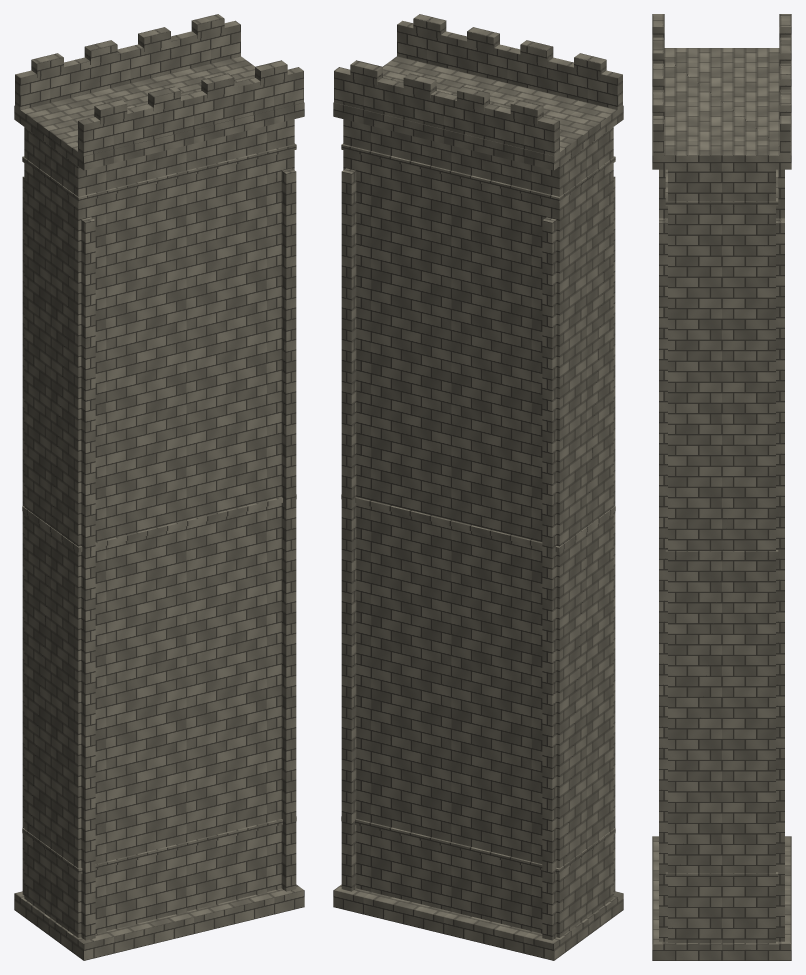
The model's file is SG_Wall_Bay_32x120_LOD1.fbx.
The picture shows the model from 3 angles, left to right: view 1: azimuth 30°, elevation 25°; view 2: azimuth 150°, elevation 25°; view 3: azimuth 270°, elevation 25°; orthographic projection.
Parts seen in each view (by area): view 1: SG_Wall_Bay_32x120_Detail1; view 2: SG_Wall_Bay_32x120_Detail1; view 3: SG_Wall_Bay_32x120_Detail1.
Part boxes in pixels (bbox=[...]): SG_Wall_Bay_32x120_Detail1: bbox=[14, 14, 304, 960]; SG_Wall_Bay_32x120_Detail1: bbox=[333, 14, 623, 960]; SG_Wall_Bay_32x120_Detail1: bbox=[652, 14, 791, 960].
Bounding box in the file's own units: 33 × 121 × 18.
